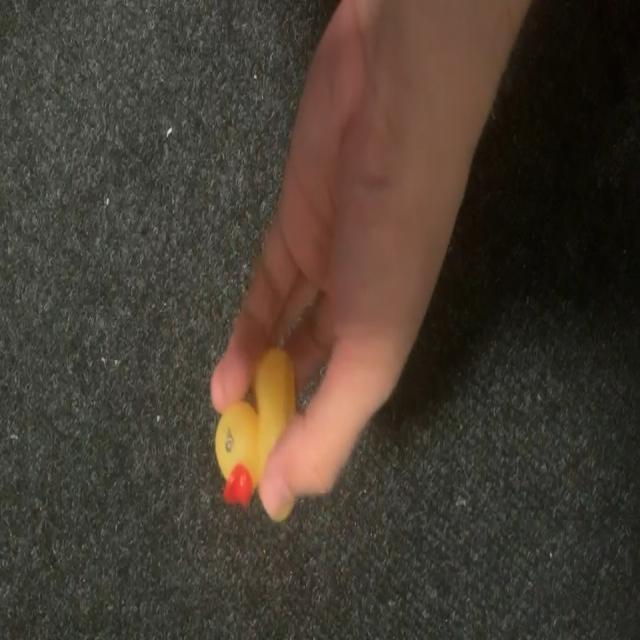rubber-duck: (214, 347, 293, 504)
